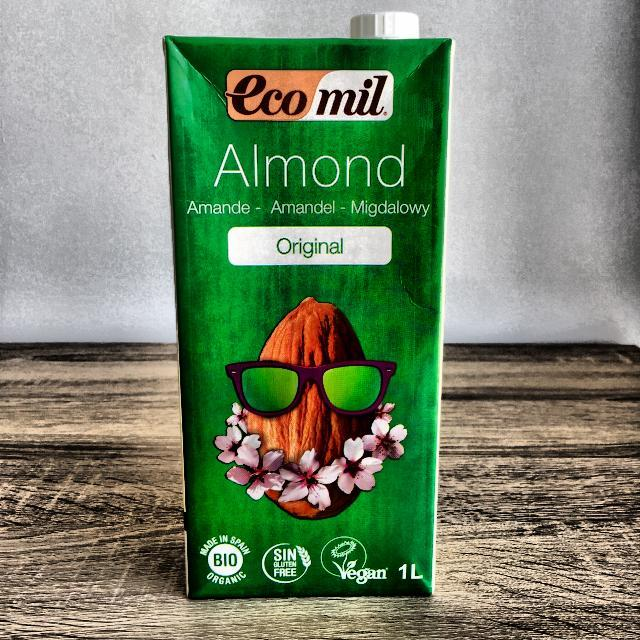cardboard: (162, 34, 453, 598)
